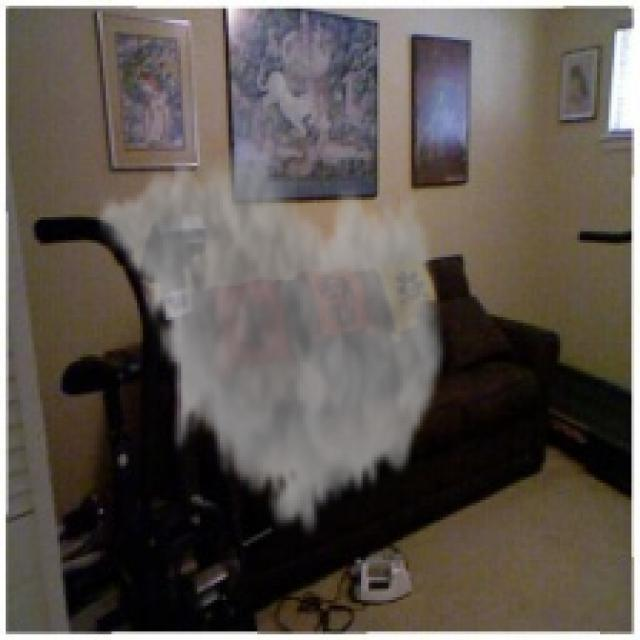Smoke: (94, 131, 449, 543)
